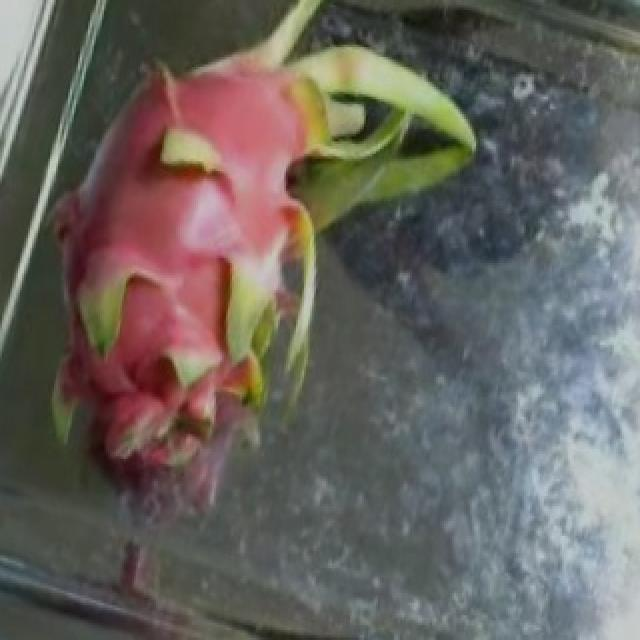fruit: (2, 0, 404, 479)
